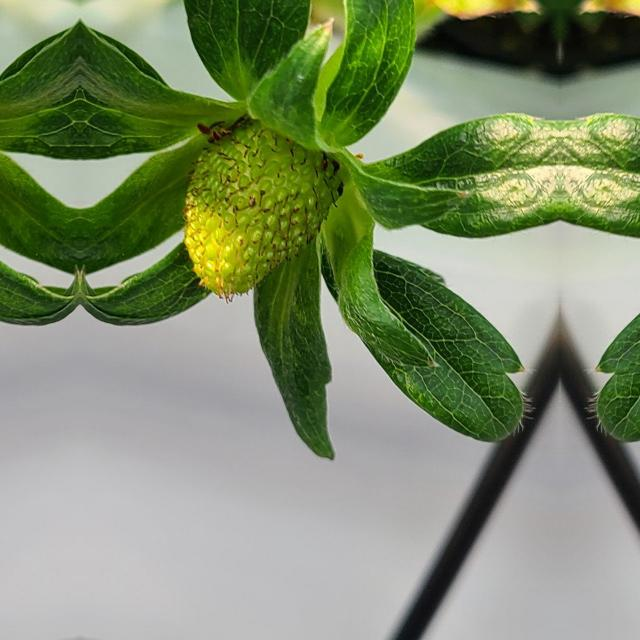Health_25: (183, 118, 343, 294)
